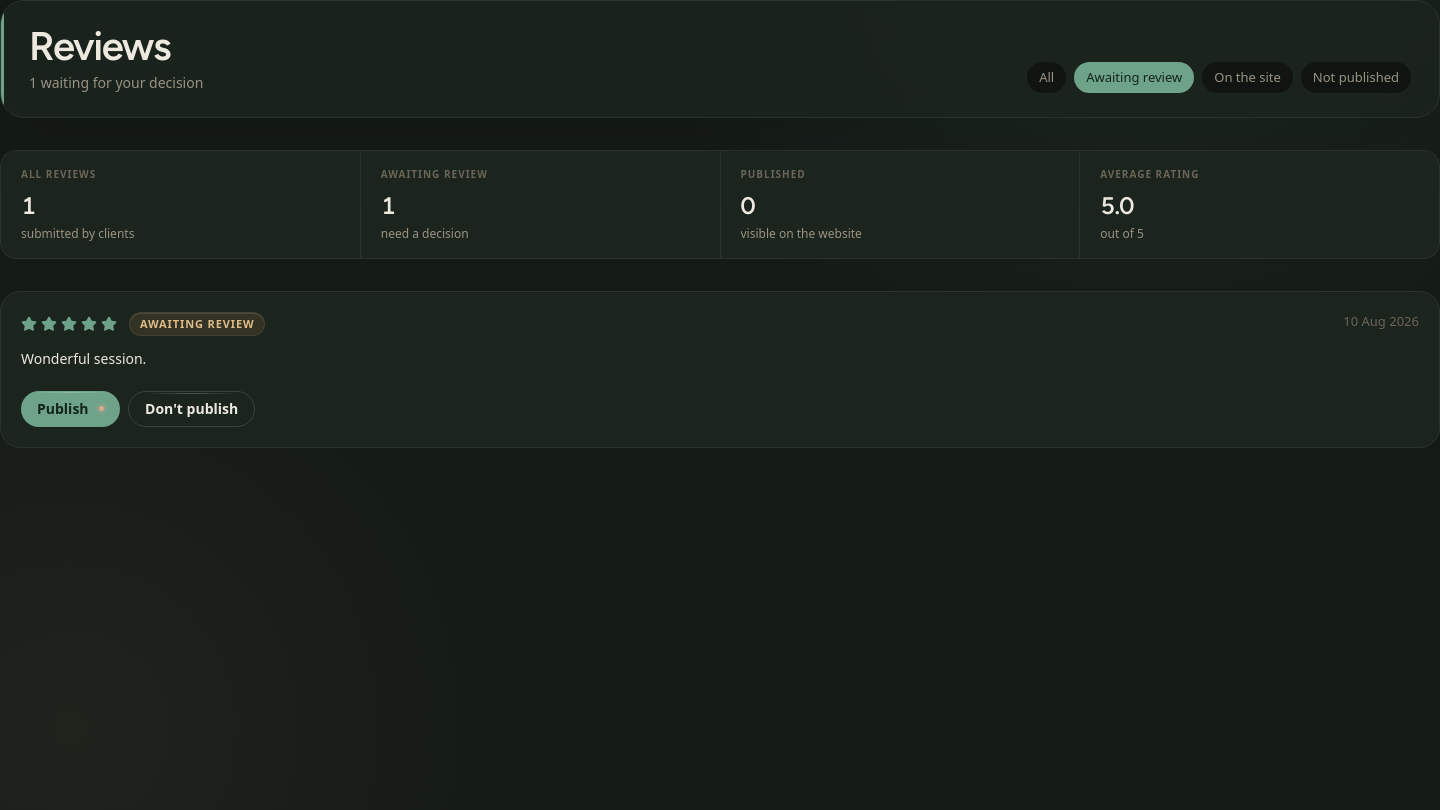
it: ReviewsPage › explains a failed decision without losing the queue
The width and height of the screenshot is (1440, 810).
Click the button "Publish".
click(71, 409)  # box [21,391,120,427]
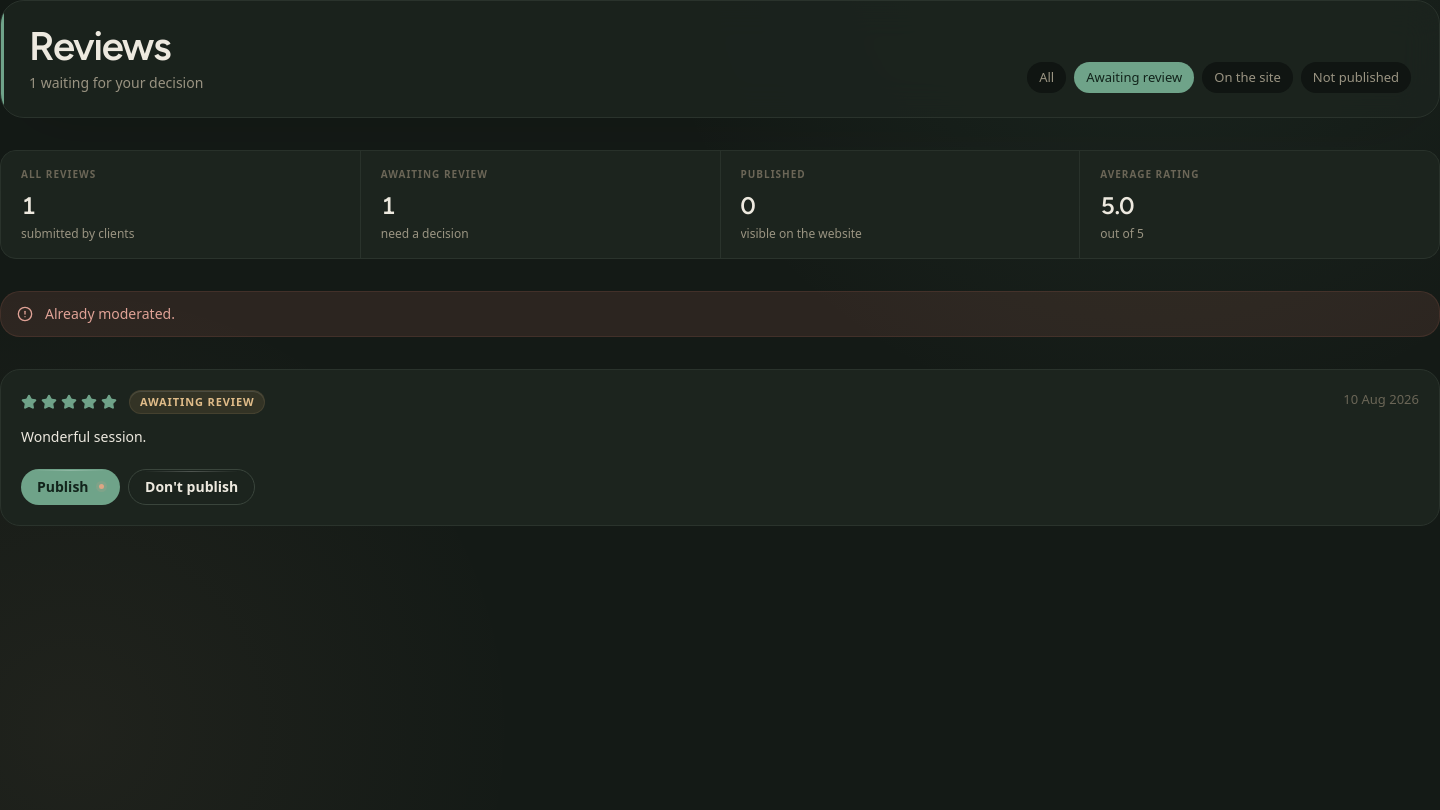
Expected: the text "Wonderful session." is shown, [21,427,146,446]
Result: the message reads "Already moderated." at [45,304,175,323]
